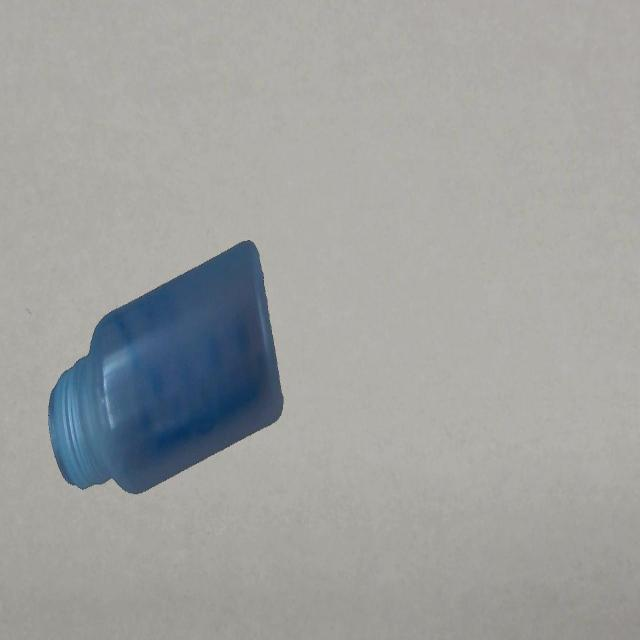bottle: (46, 235, 288, 498)
